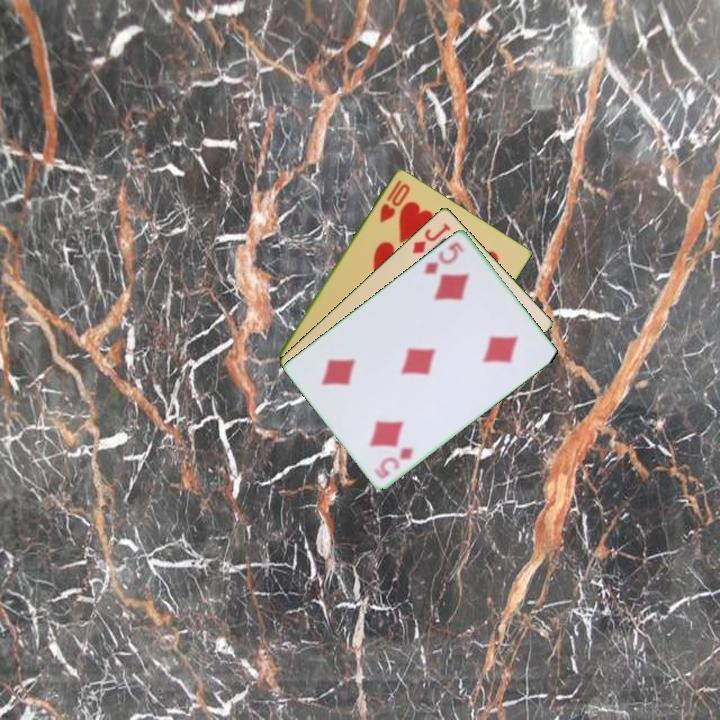10h: (376, 176, 413, 225)
5d: (420, 238, 467, 277), (370, 443, 416, 482)
Jd: (408, 219, 453, 256)
